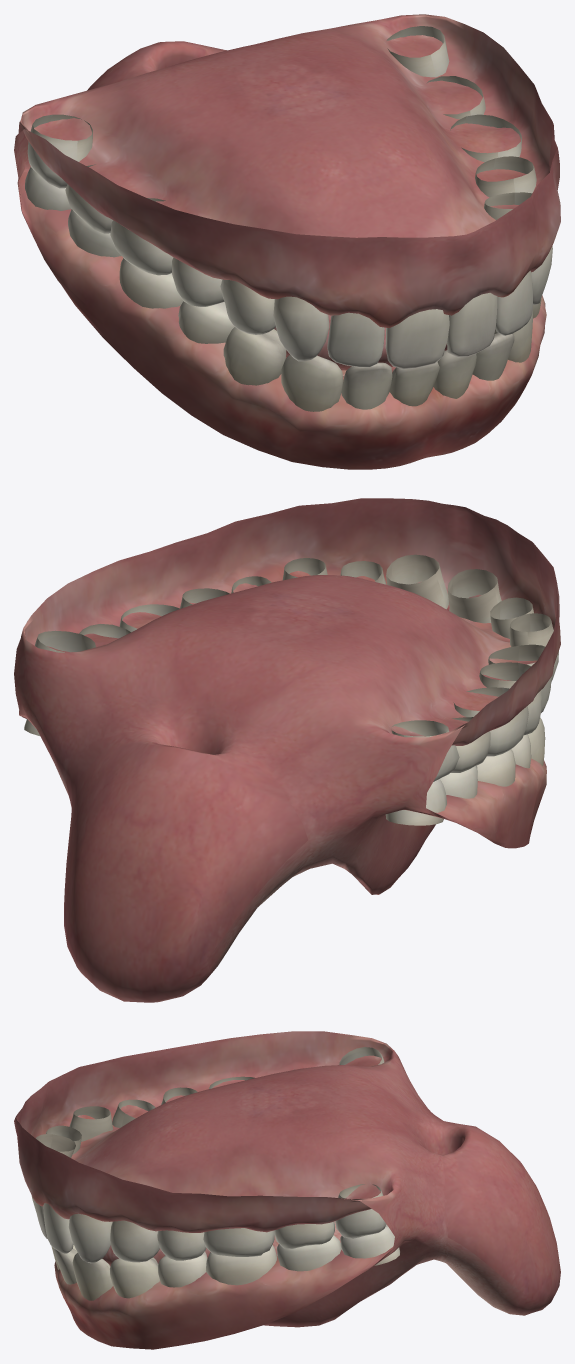
3 views of the same model, one above another, from view 1: azimuth 30°, elevation 25°; view 2: azimuth 150°, elevation 25°; view 3: azimuth 270°, elevation 25° (orthographic). The views are drawn at different scales.
Parts seen in each view (by area): view 1: Gums, Teeth; view 2: Gums, Teeth; view 3: Gums, Teeth.
Boxes of the visible parts, x1,y1,x2,y2 form: Gums: (14, 14, 560, 469); Teeth: (25, 26, 552, 411); Gums: (14, 498, 560, 1002); Teeth: (24, 554, 558, 825); Gums: (14, 1031, 560, 1349); Teeth: (31, 1047, 399, 1300).
Size of the model in its own units: 8.75 by 5.25 by 12.22.
2 materials, 2 textured.
